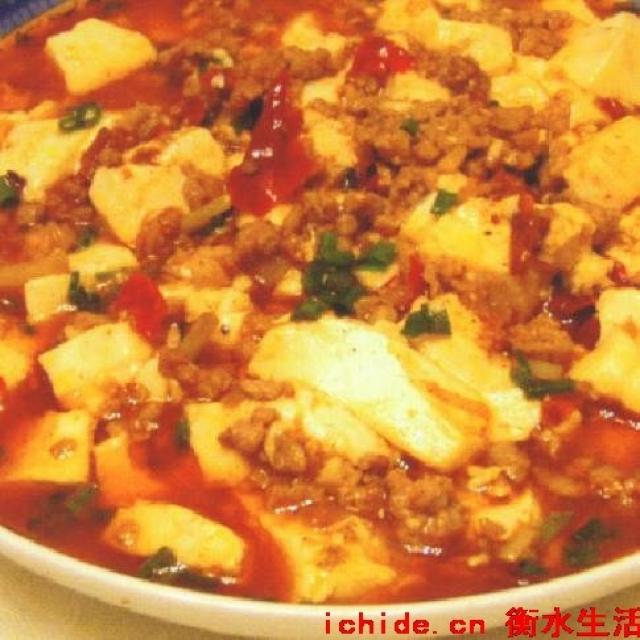豆腐料理: (12, 10, 625, 621)
